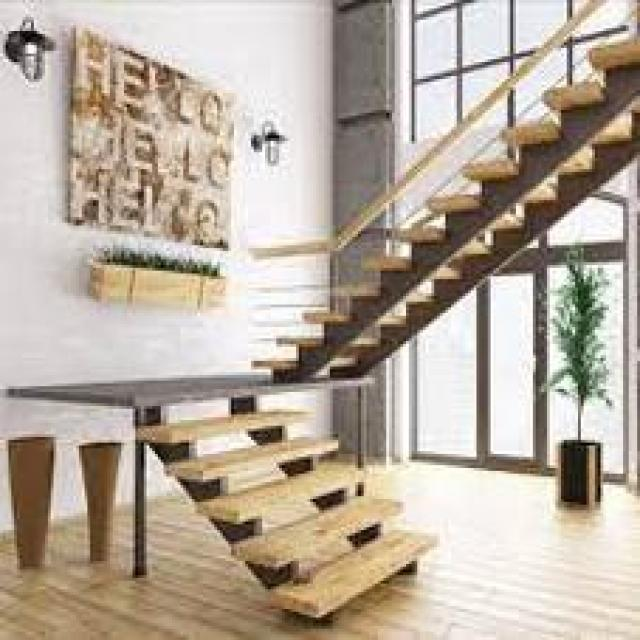upstair: (148, 382, 435, 616)
